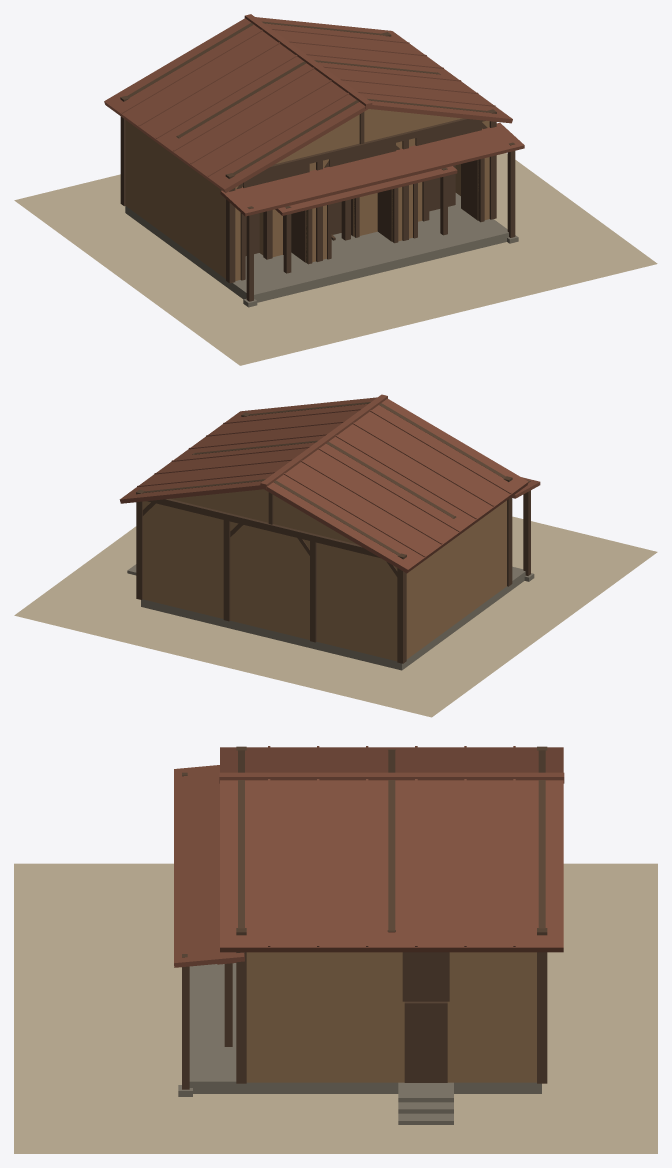
File: storage.glb
3 views of the same model, one above another, from view 1: azimuth 30°, elevation 25°; view 2: azimuth 150°, elevation 25°; view 3: azimuth 270°, elevation 25° (orthographic). The views are drawn at different scales.
Visible parts, largest first — view 1: warehouse-l2-normal, storehouse-l1-normal, warehouse-l2-low, storehouse-l1-low; view 2: warehouse-l2-normal, warehouse-l2-low, storehouse-l1-normal; view 3: warehouse-l2-normal, storehouse-l1-normal, warehouse-l2-low.
Part boxes in pixels (x1,y1,x2,y2): warehouse-l2-normal: (14, 14, 657, 365); storehouse-l1-normal: (115, 166, 551, 329); warehouse-l2-low: (125, 120, 486, 280); storehouse-l1-low: (261, 182, 422, 256); warehouse-l2-normal: (14, 394, 657, 717); warehouse-l2-low: (143, 502, 504, 660); storehouse-l1-normal: (161, 540, 520, 681); warehouse-l2-normal: (14, 746, 657, 1153); storehouse-l1-normal: (78, 918, 593, 1099); warehouse-l2-low: (247, 952, 536, 1082).
Bounding box in the file's own units: 16 × 5.88 × 15.
